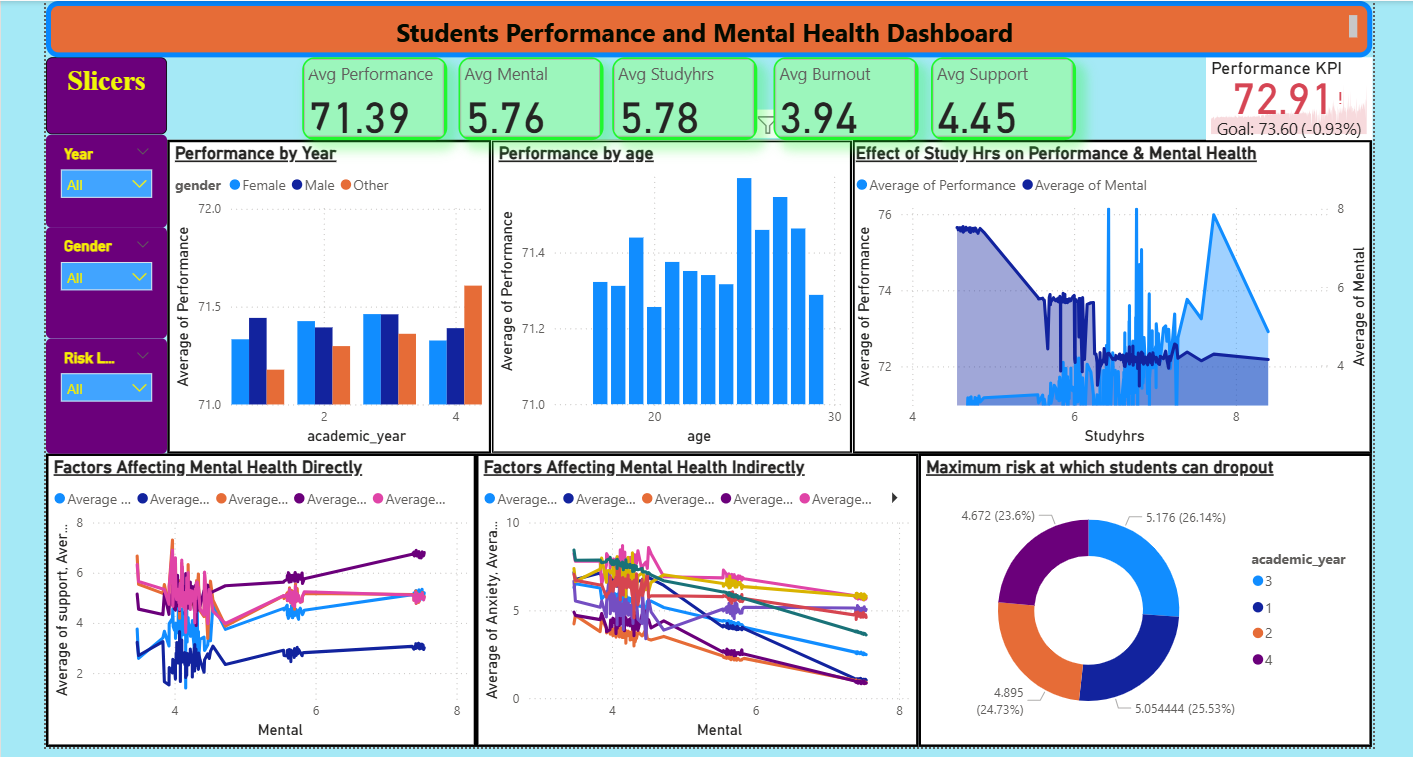

The dashboard page shown, as its layout file describes it:
{"tool":"powerbi","page":{"name":"Stdnt rdcd dashboard","canvas":[1280,720],"ordinal":0},"visuals":[{"type":"clusteredColumnChart","title":"Performance by Year","fields":{"Y":["Avg(students_reduced.Performance)"],"Category":["students_reduced.academic_year"],"Series":["students_reduced.gender"]},"box":[117,133.9,312.5,302.8],"z":0},{"type":"lineChart","title":"Factors Affecting Mental Health Directly","fields":{"Category":["students_reduced.Mental"],"Y":["Avg(students_reduced.support)","Avg(students_reduced.Physical)","Avg(students_reduced.Internet)","Avg(students_reduced.Sleep)","Avg(students_reduced.Screen)"]},"box":[0,436.7,415,283.5],"z":1000},{"type":"donutChart","title":"Maximum risk at which students can dropout","fields":{"Y":["Max(students_reduced.Dropout)"],"Category":["students_reduced.academic_year"]},"box":[842.1,436.7,437.9,283.5],"z":2000},{"type":"areaChart","title":"Effect of Study Hrs on Performance & Mental Health","fields":{"Y":["Avg(students_reduced.Performance)"],"Y2":["Avg(students_reduced.Mental)"],"Category":["students_reduced.Studyhrs"]},"box":[778.2,133.9,501.9,302.8],"z":3000},{"type":"kpi","title":"Performance KPI","fields":{"Indicator":["students_reduced.Average of Performance average per Performance"],"Goal":["students_reduced.KPI Target"],"TrendLine":["students_reduced.Studyhrs"]},"box":[1119.6,54.3,160.5,79.6],"z":4000},{"type":"clusteredColumnChart","title":"Performance by age","fields":{"Category":["students_reduced.age"],"Y":["Avg(students_reduced.Performance)"]},"box":[429.5,133.9,348.7,302.8],"z":5000},{"type":"lineChart","title":"Factors Affecting Mental Health Indirectly","fields":{"Category":["students_reduced.Mental"],"Y":["Avg(students_reduced.Anxiety)","Avg(students_reduced.Burnout)","Avg(students_reduced.Depression)","Avg(students_reduced.Dropout)","Avg(students_reduced.Exampress)","Avg(students_reduced.Internet)","Avg(students_reduced.Expectation)","Avg(students_reduced.Financial)","Avg(students_reduced.Stress)"]},"box":[415,436.7,427.1,283.5],"z":6000},{"type":"textbox","box":[0,54.3,117,74.8],"z":7000},{"type":"slicer","fields":{"Values":["students_reduced.academic_year"]},"box":[0,129.1,117,89.3],"z":8000},{"type":"slicer","fields":{"Values":["students_reduced.gender"]},"box":[0,218.4,117,107.4],"z":9000},{"type":"slicer","fields":{"Values":["students_reduced.risk_level"]},"box":[0,325.7,117,111],"z":10000},{"type":"textbox","box":[0,0,1280,54.3],"z":11000},{"type":"cardVisual","fields":{"Data":["Avg(students_reduced.Performance)"]},"box":[247.3,54.3,139.9,79.6],"z":12000},{"type":"cardVisual","fields":{"Data":["Avg(students_reduced.Mental)"]},"box":[398.1,54.3,139.9,79.6],"z":13000},{"type":"cardVisual","fields":{"Data":["Avg(students_reduced.Studyhrs)"]},"box":[546.5,54.3,139.9,79.6],"z":14000},{"type":"cardVisual","fields":{"Data":["Avg(students_reduced.Burnout)"]},"box":[702.1,54.3,139.9,79.6],"z":15000},{"type":"cardVisual","fields":{"Data":["Avg(students_reduced.support)"]},"box":[854.2,54.3,139.9,79.6],"z":16000}]}

Visuals, with their boxes in screenshot pixels (x1, y1, x2, y2):
"Performance by Year" clusteredColumnChart: crop(162, 139, 486, 453)
"Factors Affecting Mental Health Directly" lineChart: crop(40, 453, 471, 748)
"Maximum risk at which students can dropout" donutChart: crop(915, 453, 1369, 748)
"Effect of Study Hrs on Performance & Mental Health" areaChart: crop(848, 139, 1370, 453)
"Performance KPI" kpi: crop(1203, 56, 1370, 139)
"Performance by age" clusteredColumnChart: crop(486, 139, 848, 453)
"Factors Affecting Mental Health Indirectly" lineChart: crop(471, 453, 915, 748)
textbox: crop(40, 56, 162, 134)
slicer - students_reduced.academic_year: crop(40, 134, 162, 227)
slicer - students_reduced.gender: crop(40, 227, 162, 338)
slicer - students_reduced.risk_level: crop(40, 338, 162, 453)
textbox: crop(40, 0, 1369, 56)
cardVisual - Avg(students_reduced.Performance): crop(297, 56, 442, 139)
cardVisual - Avg(students_reduced.Mental): crop(454, 56, 599, 139)
cardVisual - Avg(students_reduced.Studyhrs): crop(608, 56, 753, 139)
cardVisual - Avg(students_reduced.Burnout): crop(769, 56, 915, 139)
cardVisual - Avg(students_reduced.support): crop(927, 56, 1073, 139)
